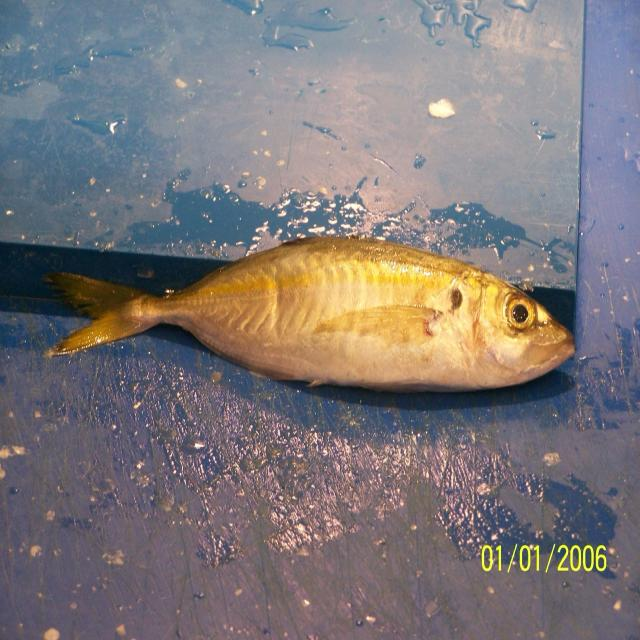Hourse-Mackerel-istavrit-: (40, 238, 576, 395)
